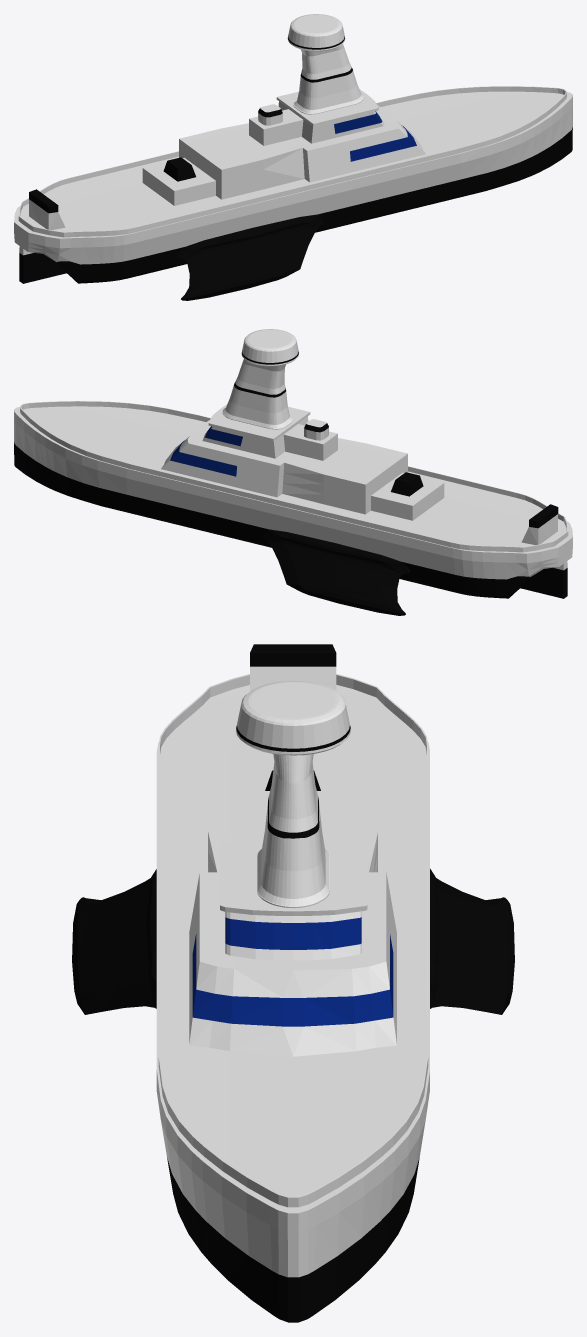
The model's file is boat.dae.
3 renders of one model, top to bottom at view 1: azimuth 30°, elevation 25°; view 2: azimuth 150°, elevation 25°; view 3: azimuth 270°, elevation 25°, orthographic. The views are drawn at different scales.
Visible parts, largest first — view 1: base_link; view 2: base_link; view 3: base_link.
Part boxes in pixels (x1=…): base_link: x1=14, y1=14, x2=572, y2=300; base_link: x1=14, y1=329, x2=572, y2=615; base_link: x1=72, y1=644, x2=514, y2=1322.
Bounding box in the file's own units: 483 × 168 × 165.
